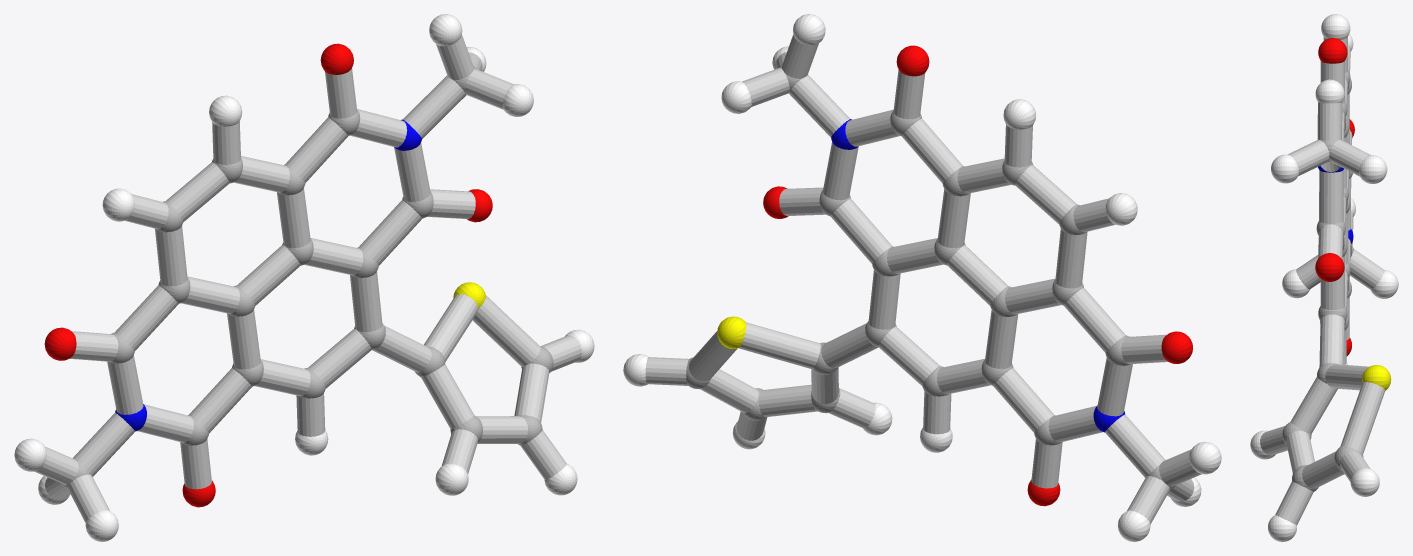
Rendered from Dimethyl_Naphthalene_Dicarboximide_Phi_5_Theta_140_Thiophene.glb.
3 renders of one model, left to right at view 1: azimuth 30°, elevation 25°; view 2: azimuth 150°, elevation 25°; view 3: azimuth 270°, elevation 25°, orthographic. The views are drawn at different scales.
Visible parts, largest first — view 1: grp14119, grp7241, grp1, grp12309, grp11585; view 2: grp14119, grp7241, grp1, grp12309, grp13757, grp11585; view 3: grp14119, grp7241, grp1, grp12309, grp13757.
Part boxes in pixels (x1,y1,x2,y2): grp14119: (34,35,581,523); grp7241: (14,14,594,541); grp1: (62,66,553,488); grp12309: (44,43,492,507); grp11585: (115,119,421,431); grp14119: (645,34,1201,524); grp7241: (623,14,1221,541); grp1: (686,65,1174,490); grp12309: (763,45,1192,506); grp13757: (717,316,746,348); grp11585: (831,119,1124,432); grp14119: (1260,37,1385,525); grp7241: (1250,14,1398,541); grp1: (1282,70,1363,491); grp12309: (1315,38,1354,356); grp13757: (1362,365,1391,390).
Size of the model in its own units: 12.27 by 9.55 by 3.04.
